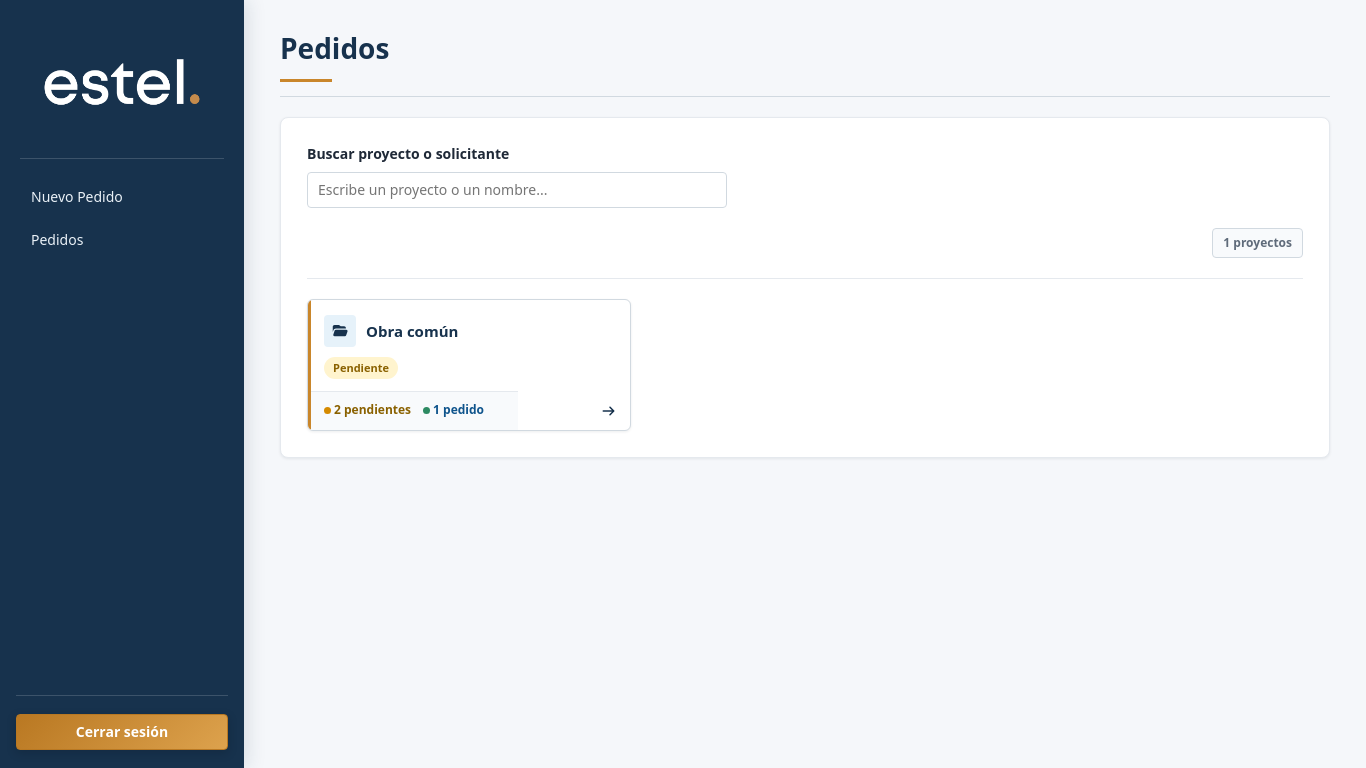
Test case: Usuario ve pedidos ajenos y sus detalles, con acciones solo en propios pendientes
This screenshot has width=1366, height=768.
What coordinates should you click on to do the following:
click the button with aria-label "Abrir Obra común, 3 pedidos"
I would click on:
 (340, 331)
Its box is 307,299 -> 631,431.
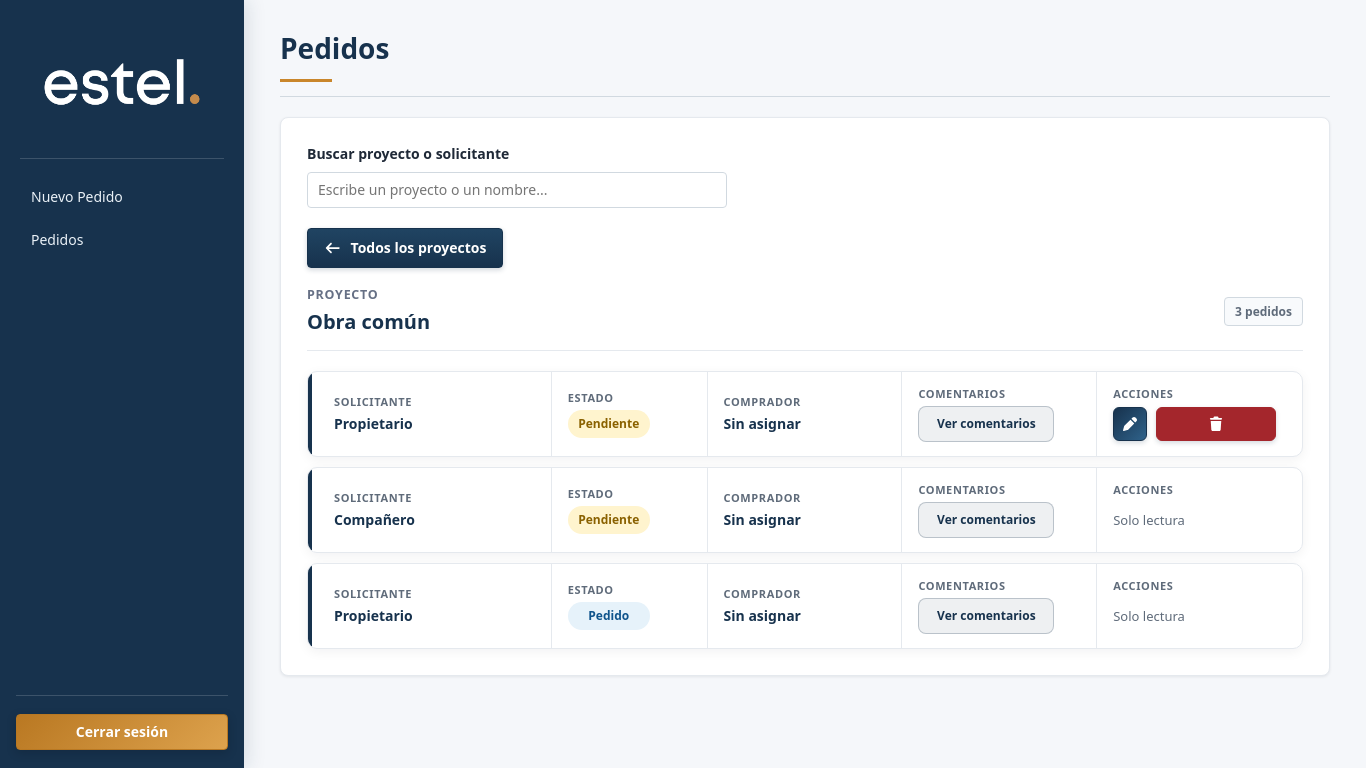
Expected: the button named "Editar pedido" is shown, 1113,407 -> 1147,441
Expected: the button named "Eliminar pedido" is shown, 1156,407 -> 1276,441
Expected: the text "Solo lectura" in the row of "Compañero" is shown, 1113,511 -> 1185,529
What coordinates should you click on to do the following:
click the list item with aria-label "Ver solicitud original de Compañero"
I would click on:
 (805, 510)
Its box is 307,467 -> 1303,553.
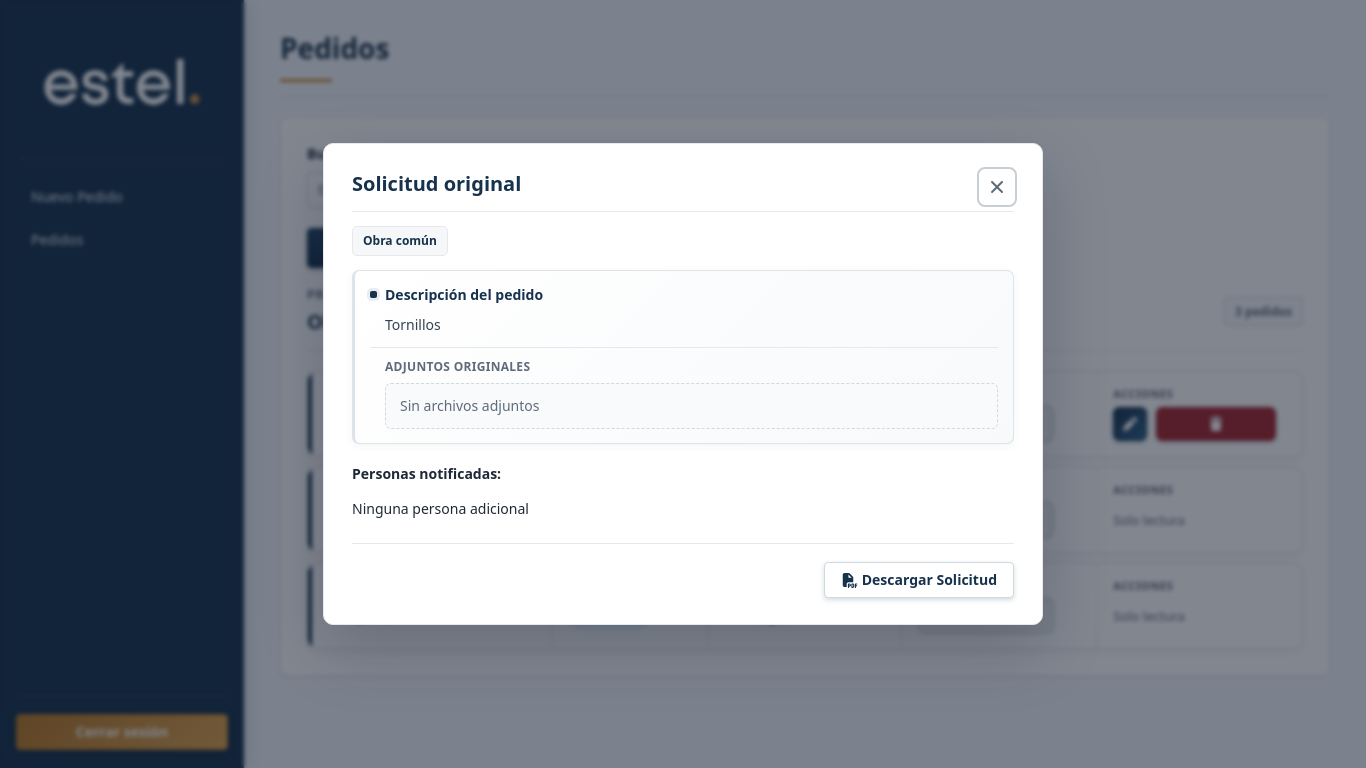
Expected: the text "Tornillos" is shown, 385,315 -> 441,334
